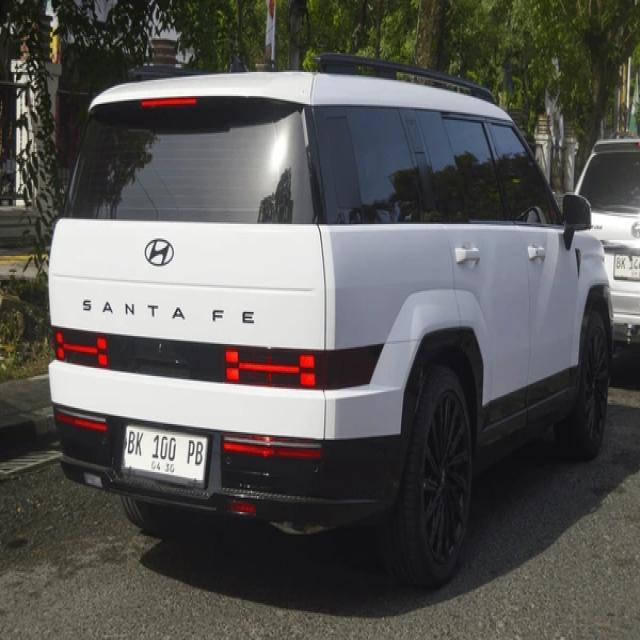hyundai: (142, 234, 178, 275)
